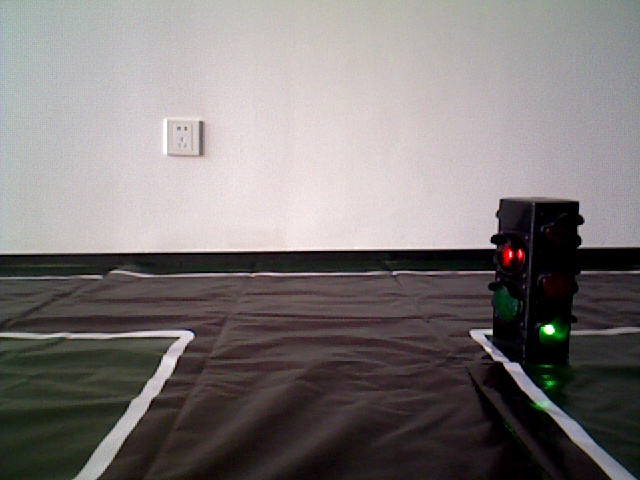green: (499, 198, 573, 360)
